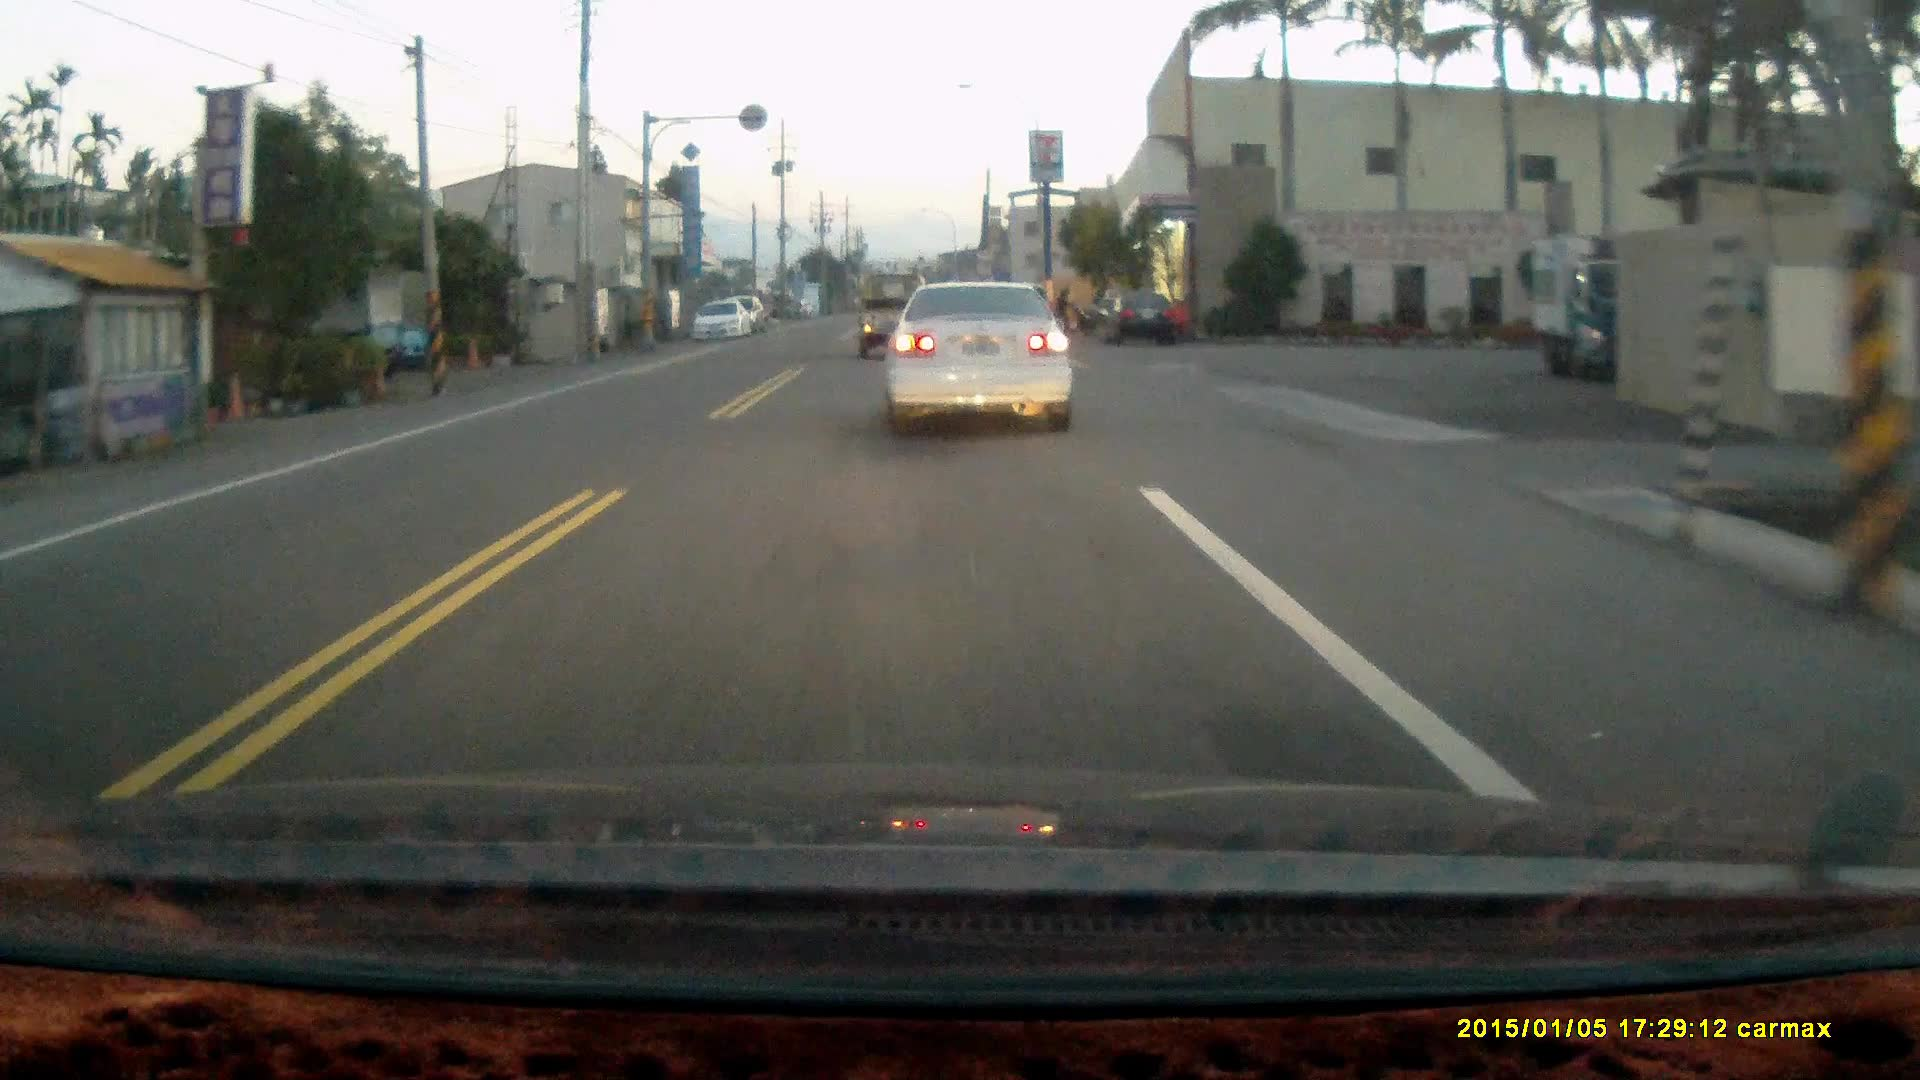rider: (1044, 281, 1091, 334)
vehicle: (890, 277, 1080, 437), (1525, 235, 1689, 386), (860, 274, 933, 363), (1099, 286, 1179, 347), (694, 301, 752, 346)
